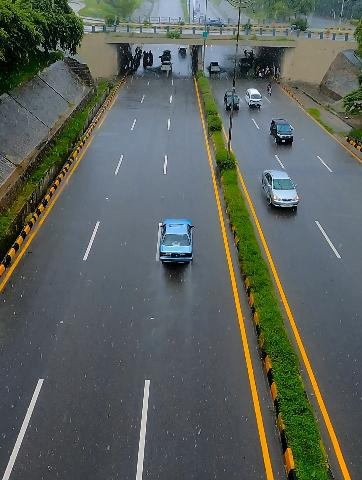car: (157, 217, 199, 271), (259, 166, 303, 213), (270, 117, 296, 149), (210, 61, 220, 73), (162, 61, 172, 72), (239, 57, 250, 67)
motorcycle: (267, 81, 275, 97)
van: (224, 88, 243, 113), (247, 85, 265, 111)
